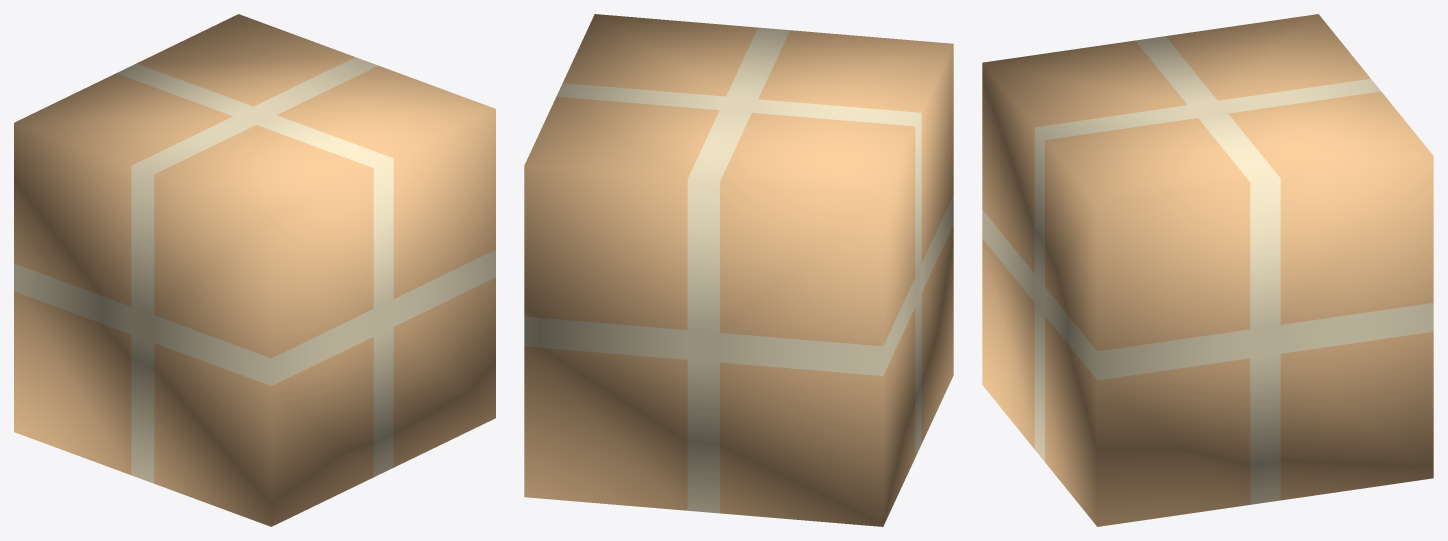
Rendered from droneboxonly.glb.
3 renders of one model, left to right at view 1: azimuth 30°, elevation 25°; view 2: azimuth 150°, elevation 25°; view 3: azimuth 270°, elevation 25°, orthographic. The views are drawn at different scales.
Visible parts, largest first — view 1: Box_3.007; view 2: Box_3.007; view 3: Box_3.007.
Part boxes in pixels (box(x1,y1,x2,y2)): Box_3.007: box(14, 14, 495, 526); Box_3.007: box(524, 14, 953, 526); Box_3.007: box(982, 14, 1433, 526).
Bounding box in the file's own units: 11.83 × 9.31 × 11.83.
Materials: 1 (1 with a texture image).
